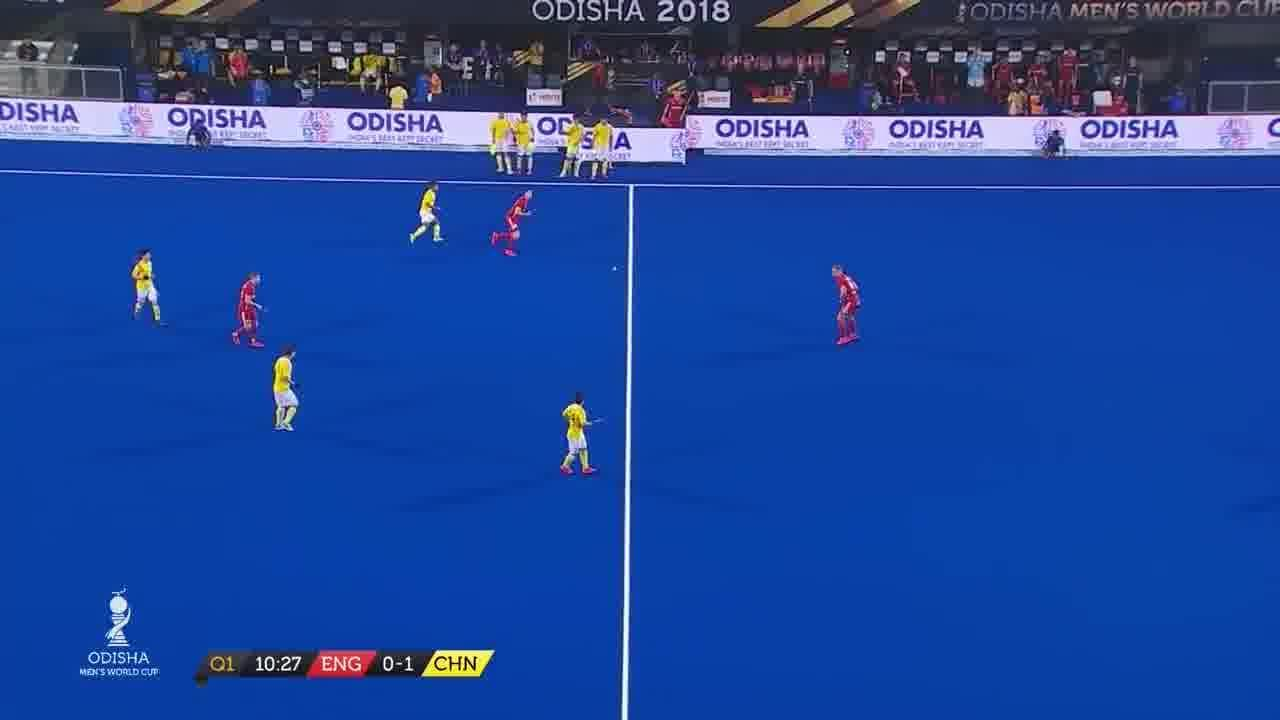ball: (606, 262, 622, 278)
